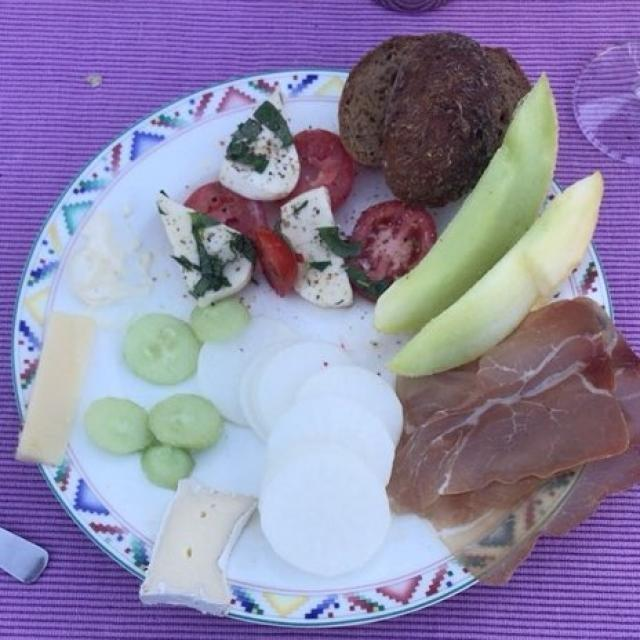bread: (348, 38, 518, 197)
cheese: (4, 312, 111, 475)
cucumber: (82, 294, 250, 480)
ham: (390, 285, 615, 592)
mayonnaise: (50, 229, 135, 310)
melon: (356, 72, 604, 392)
radish: (196, 326, 402, 584)
salad: (159, 117, 430, 302)
